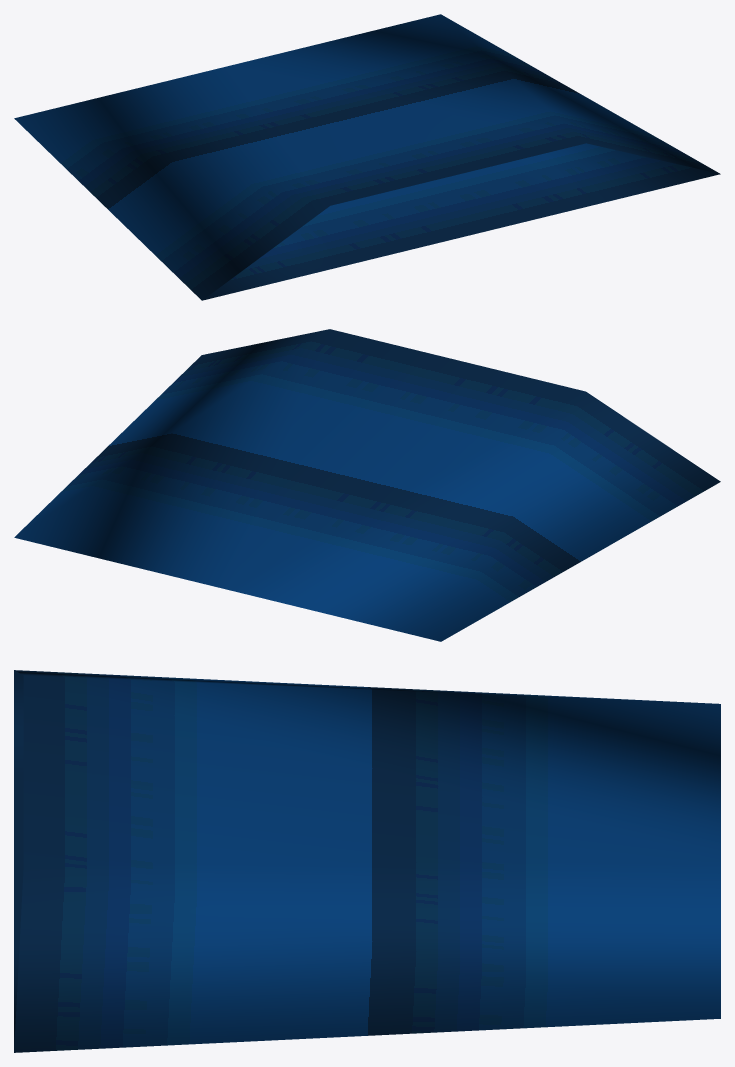
Rendered from 2286skirt00_c.gltf.
3 views of the same model, one above another, from view 1: azimuth 30°, elevation 25°; view 2: azimuth 150°, elevation 25°; view 3: azimuth 270°, elevation 25° (orthographic). The views are drawn at different scales.
Parts seen in each view (by area): view 1: 2286skirt00_c; view 2: 2286skirt00_c; view 3: 2286skirt00_c.
Boxes of the visible parts, <box> form: 2286skirt00_c: <box>14,14,720,300</box>; 2286skirt00_c: <box>14,329,720,641</box>; 2286skirt00_c: <box>14,670,720,1052</box>.
Bounding box in the file's own units: 0.7896 × 0.0879 × 0.6162.
1 material, 1 textured.
